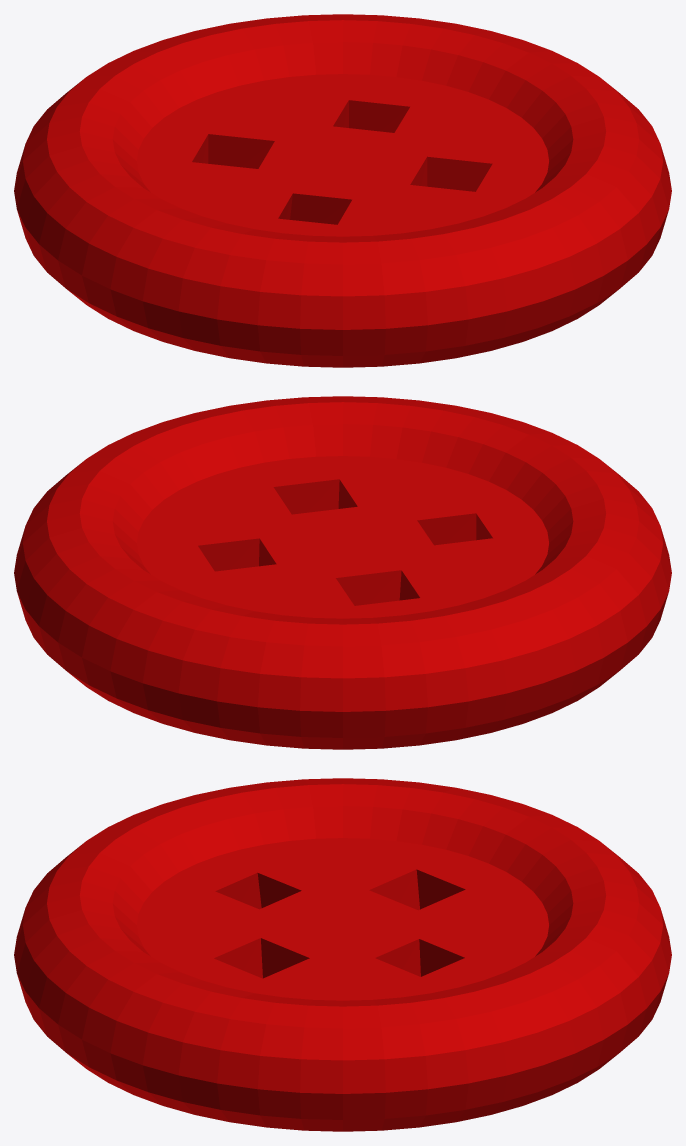
The model's file is button.obj.
3 views of the same model, one above another, from view 1: azimuth 30°, elevation 25°; view 2: azimuth 150°, elevation 25°; view 3: azimuth 270°, elevation 25° (orthographic).
Visible parts, largest first — view 1: Torus; view 2: Torus; view 3: Torus.
Part boxes in pixels (box(x1,y1,x2,y2)): Torus: box(14, 14, 671, 367); Torus: box(14, 396, 671, 749); Torus: box(14, 778, 671, 1131).
Size of the model in its own units: 2.5 by 0.5 by 2.5.
